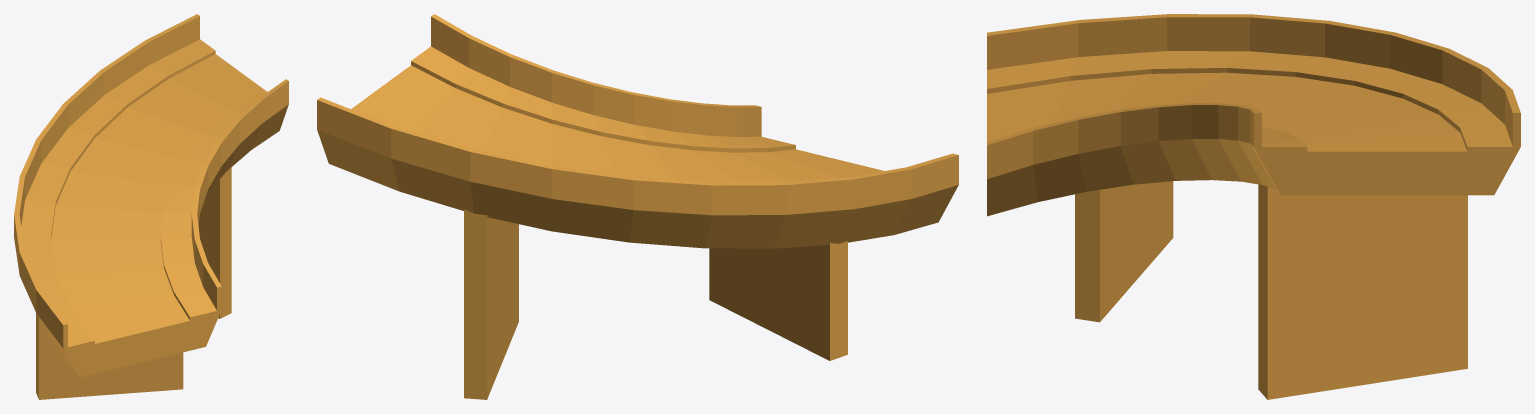
Rendered from bridge-road-hill-curve.glb.
3 views of the same model, side by side, from view 1: azimuth 30°, elevation 25°; view 2: azimuth 150°, elevation 25°; view 3: azimuth 270°, elevation 25° (orthographic). The views are drawn at different scales.
Visible parts, largest first — view 1: bridge-road-hill-curve; view 2: bridge-road-hill-curve; view 3: bridge-road-hill-curve.
Boxes of the visible parts, bbox=[...] form: bridge-road-hill-curve: bbox=[14, 14, 288, 399]; bridge-road-hill-curve: bbox=[317, 14, 958, 399]; bridge-road-hill-curve: bbox=[987, 14, 1520, 399].
Size of the model in its own units: 20 by 13.4 by 20.
